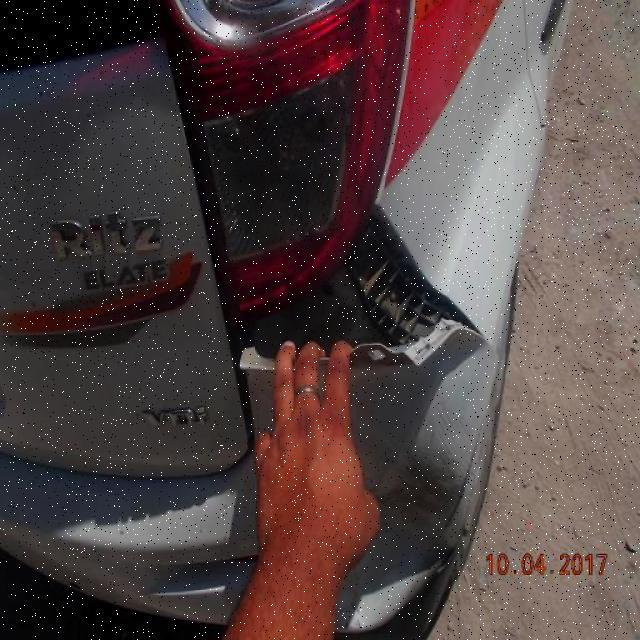car damage: (238, 208, 491, 370), (375, 407, 484, 612)
